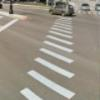cars: (48, 4, 75, 16), (79, 3, 91, 12)
crosswalks: (23, 21, 82, 99)
